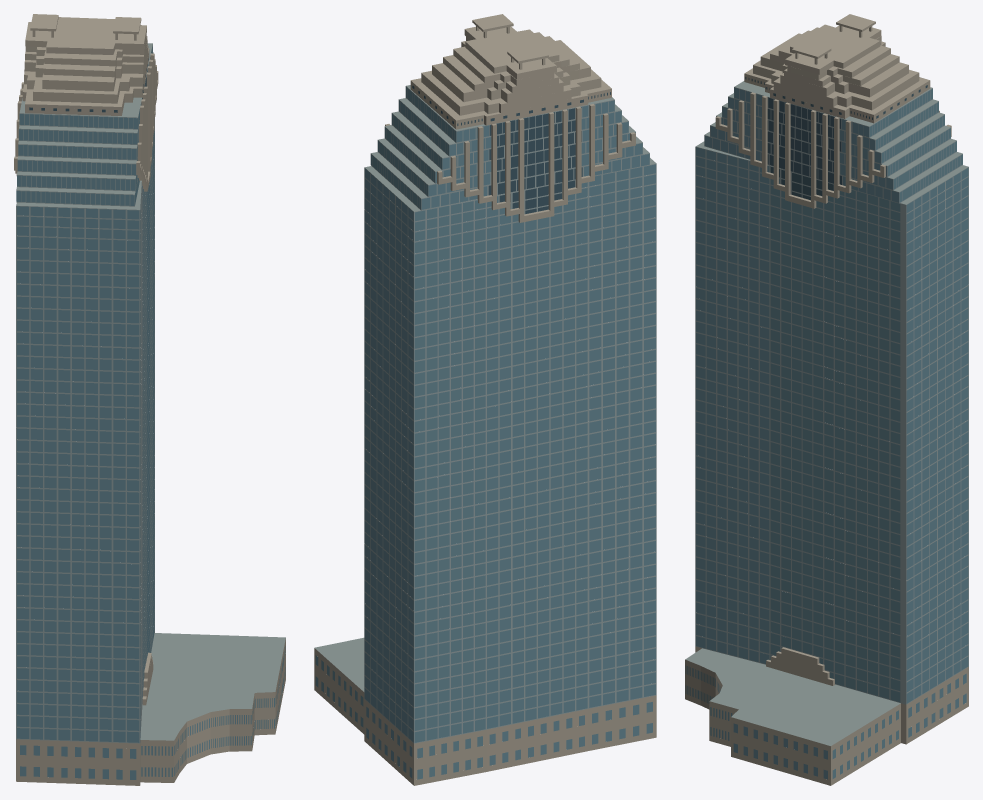
The model's file is heritage-plaza-houston-near.glb.
3 renders of one model, left to right at view 1: azimuth 30°, elevation 25°; view 2: azimuth 150°, elevation 25°; view 3: azimuth 270°, elevation 25°, orthographic. The views are drawn at different scales.
Parts seen in each view (by area): view 1: heritage-plaza-houston-0-glass, heritage-plaza-houston-0-metal, heritage-plaza-houston-0-granite, heritage-plaza-houston-0-roof; view 2: heritage-plaza-houston-0-glass, heritage-plaza-houston-0-metal, heritage-plaza-houston-0-granite, heritage-plaza-houston-0-crownGlass, heritage-plaza-houston-0-roof; view 3: heritage-plaza-houston-0-glass, heritage-plaza-houston-0-metal, heritage-plaza-houston-0-granite, heritage-plaza-houston-0-roof, heritage-plaza-houston-0-crownGlass.
Part boxes in pixels (bbox=[...]): heritage-plaza-houston-0-glass: bbox=[16, 46, 285, 779]; heritage-plaza-houston-0-metal: bbox=[16, 44, 154, 743]; heritage-plaza-houston-0-granite: bbox=[14, 14, 285, 785]; heritage-plaza-houston-0-roof: bbox=[16, 43, 285, 740]; heritage-plaza-houston-0-glass: bbox=[315, 87, 655, 779]; heritage-plaza-houston-0-metal: bbox=[364, 86, 656, 743]; heritage-plaza-houston-0-granite: bbox=[314, 14, 656, 785]; heritage-plaza-houston-0-crownGlass: bbox=[412, 85, 610, 213]; heritage-plaza-houston-0-roof: bbox=[314, 85, 656, 691]; heritage-plaza-houston-0-glass: bbox=[685, 87, 968, 779]; heritage-plaza-houston-0-metal: bbox=[695, 87, 968, 704]; heritage-plaza-houston-0-granite: bbox=[685, 14, 968, 785]; heritage-plaza-houston-0-roof: bbox=[685, 81, 968, 745]; heritage-plaza-houston-0-crownGlass: bbox=[745, 77, 927, 200].
Bounding box in the file's own units: 106 × 232 × 90.54.
